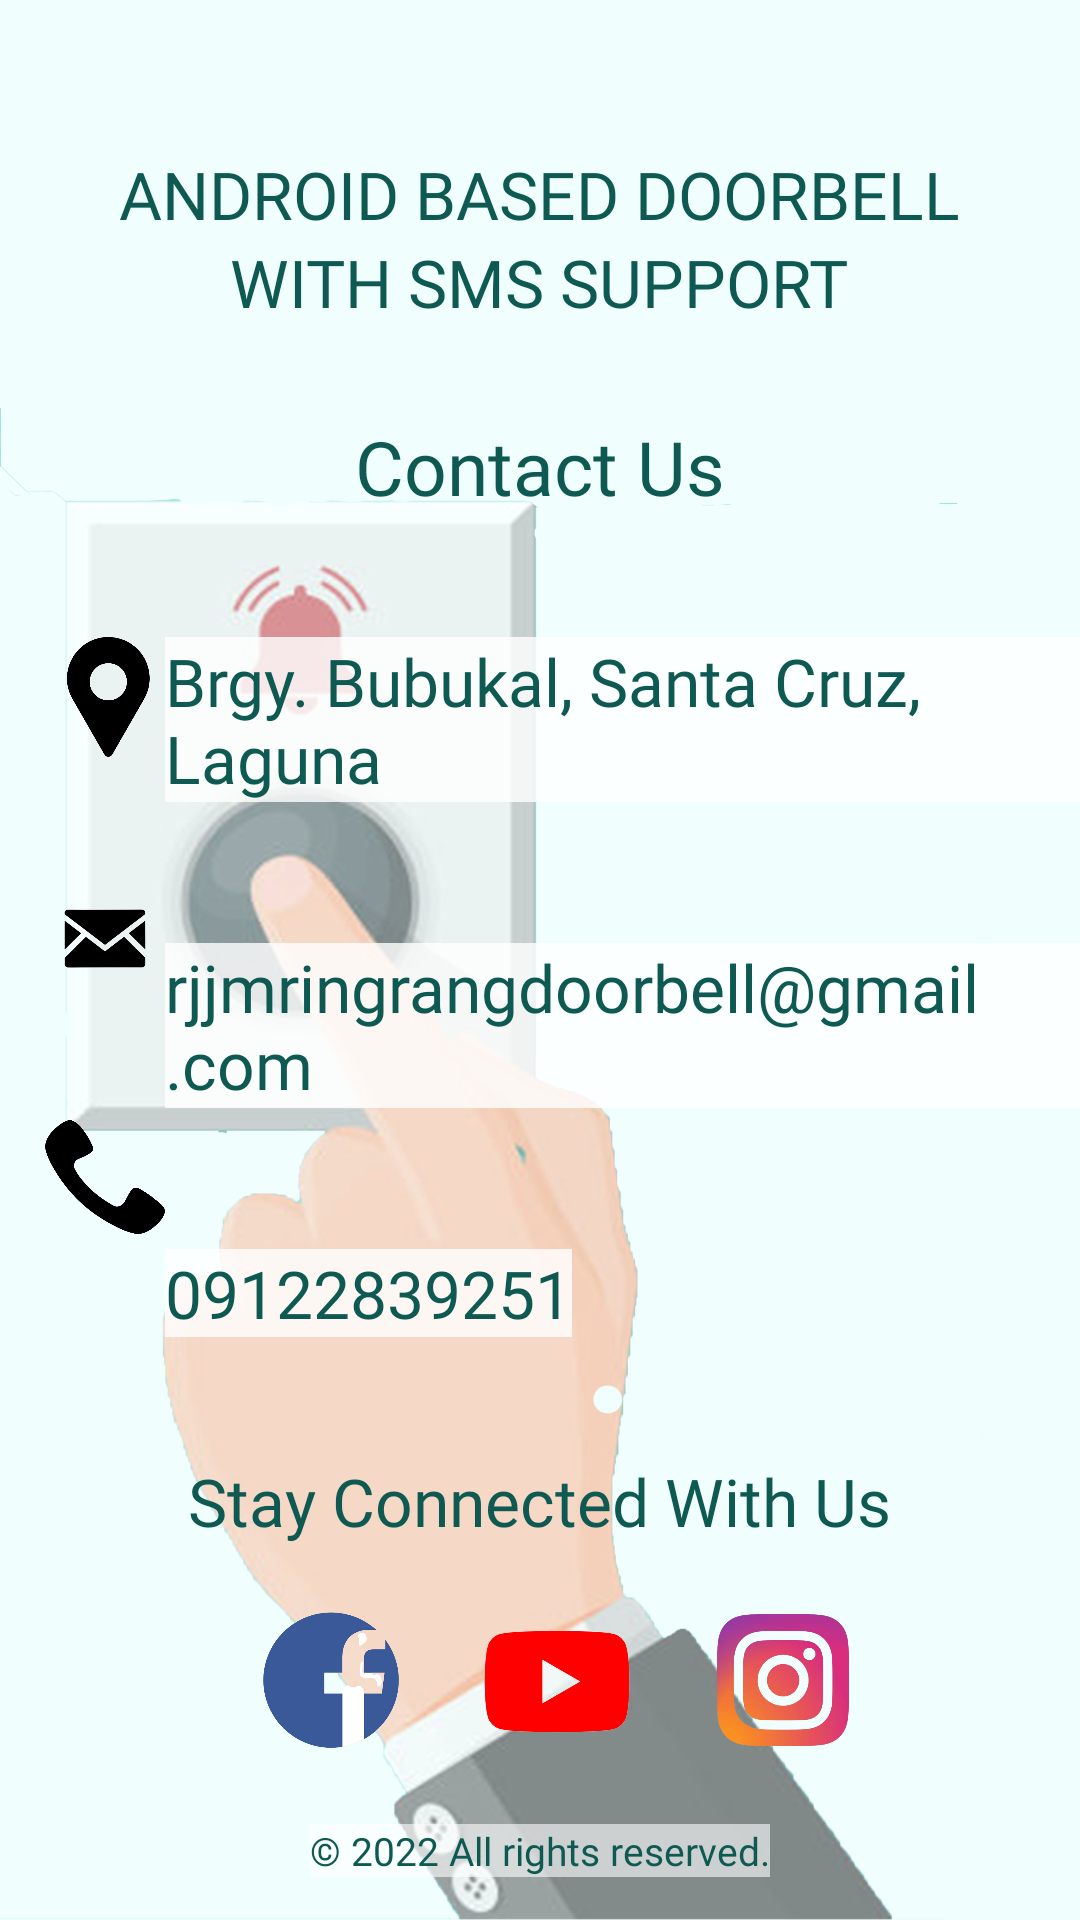

Locate icon controls on the screen. Image size 1080px x 1920px, boxes as (x1, y1, x2, y2).
email: (64, 909, 146, 968)
location: (67, 637, 150, 757)
phonenum: (45, 1117, 165, 1234)
